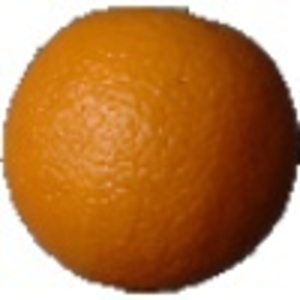laranja: (3, 2, 298, 293)
